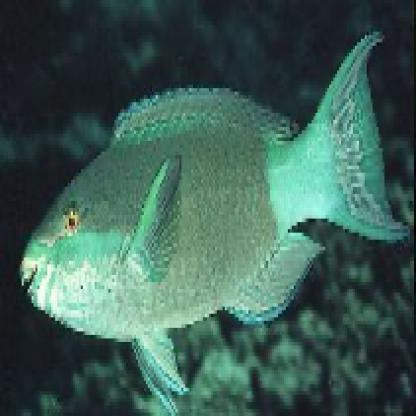Bio: (13, 3, 402, 406)
